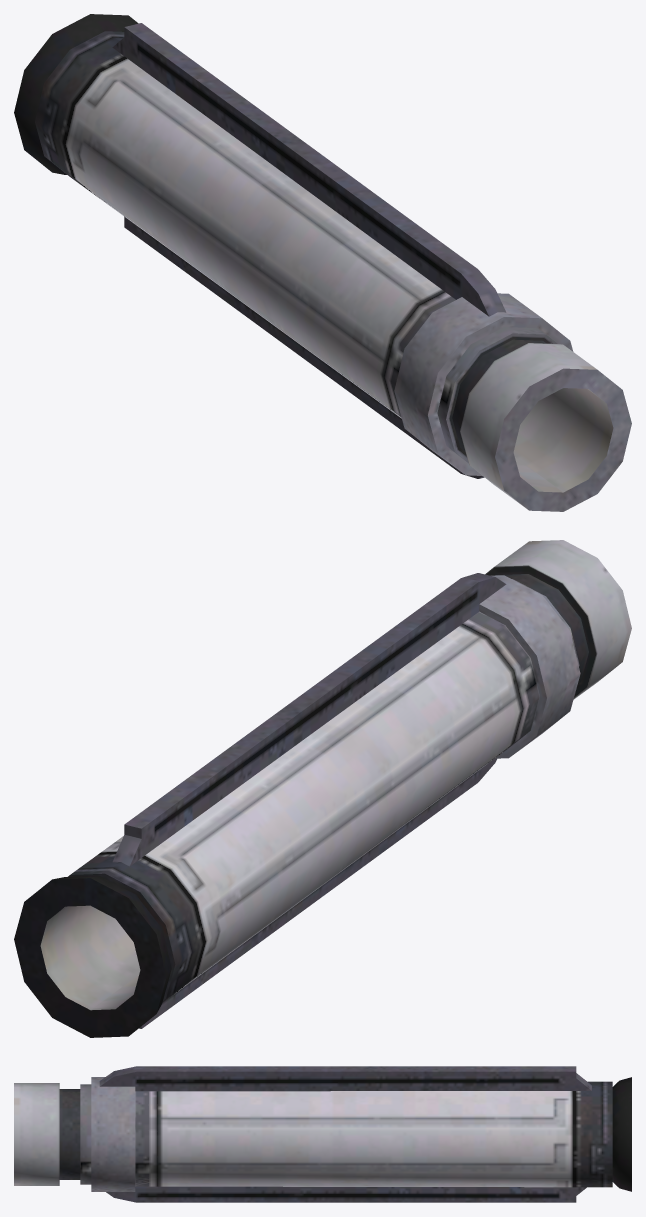
Rendered from eqp_comp_missile_launcher_l0.fbx.
3 renders of one model, top to bottom at view 1: azimuth 30°, elevation 25°; view 2: azimuth 150°, elevation 25°; view 3: azimuth 270°, elevation 25°, orthographic. The views are drawn at different scales.
Visible parts, largest first — view 1: mesh_node; view 2: mesh_node; view 3: mesh_node.
Boxes of the visible parts, x1=… form: mesh_node: x1=14, y1=14, x2=631, y2=511; mesh_node: x1=14, y1=540, x2=631, y2=1037; mesh_node: x1=14, y1=1066, x2=631, y2=1202.
Size of the model in its own units: 0.3731 by 0.4674 by 2.
1 material, 1 textured.
